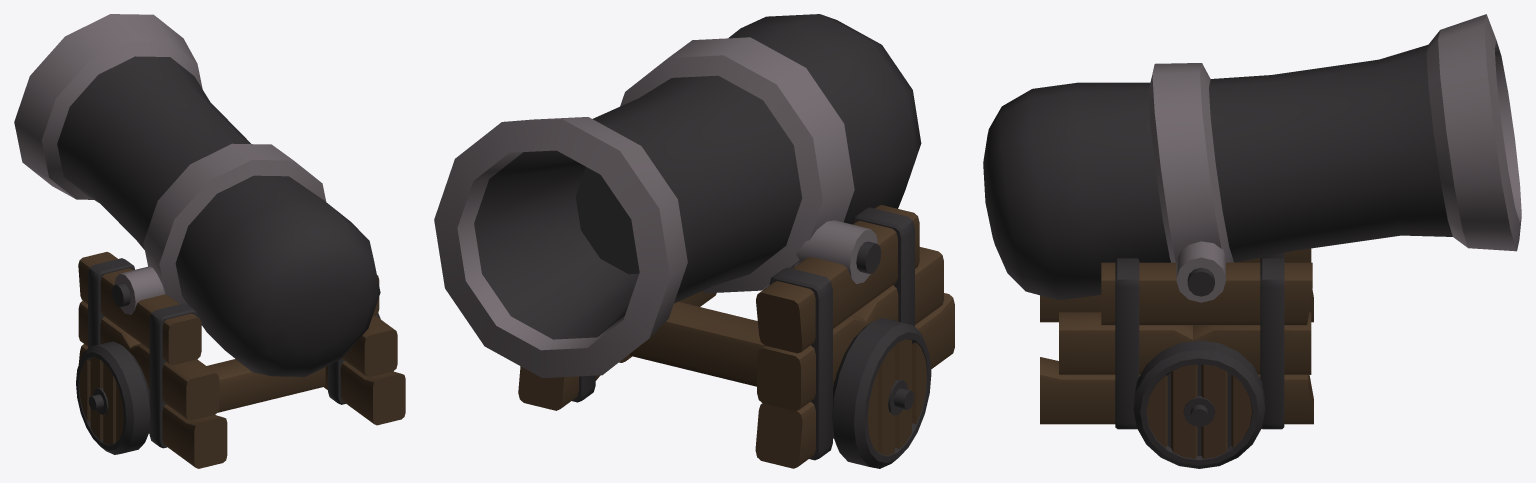
Rendered from big_cannon.fbx.
3 renders of one model, left to right at view 1: azimuth 30°, elevation 25°; view 2: azimuth 150°, elevation 25°; view 3: azimuth 270°, elevation 25°, orthographic. The views are drawn at different scales.
Visible parts, largest first — view 1: Prop_Cannon; view 2: Prop_Cannon; view 3: Prop_Cannon.
Boxes of the visible parts, x1,y1,x2,y2 form: Prop_Cannon: (14,14,405,468); Prop_Cannon: (434,14,954,468); Prop_Cannon: (983,14,1521,468).
Size of the model in its own units: 0.7008 by 0.7619 by 1.
